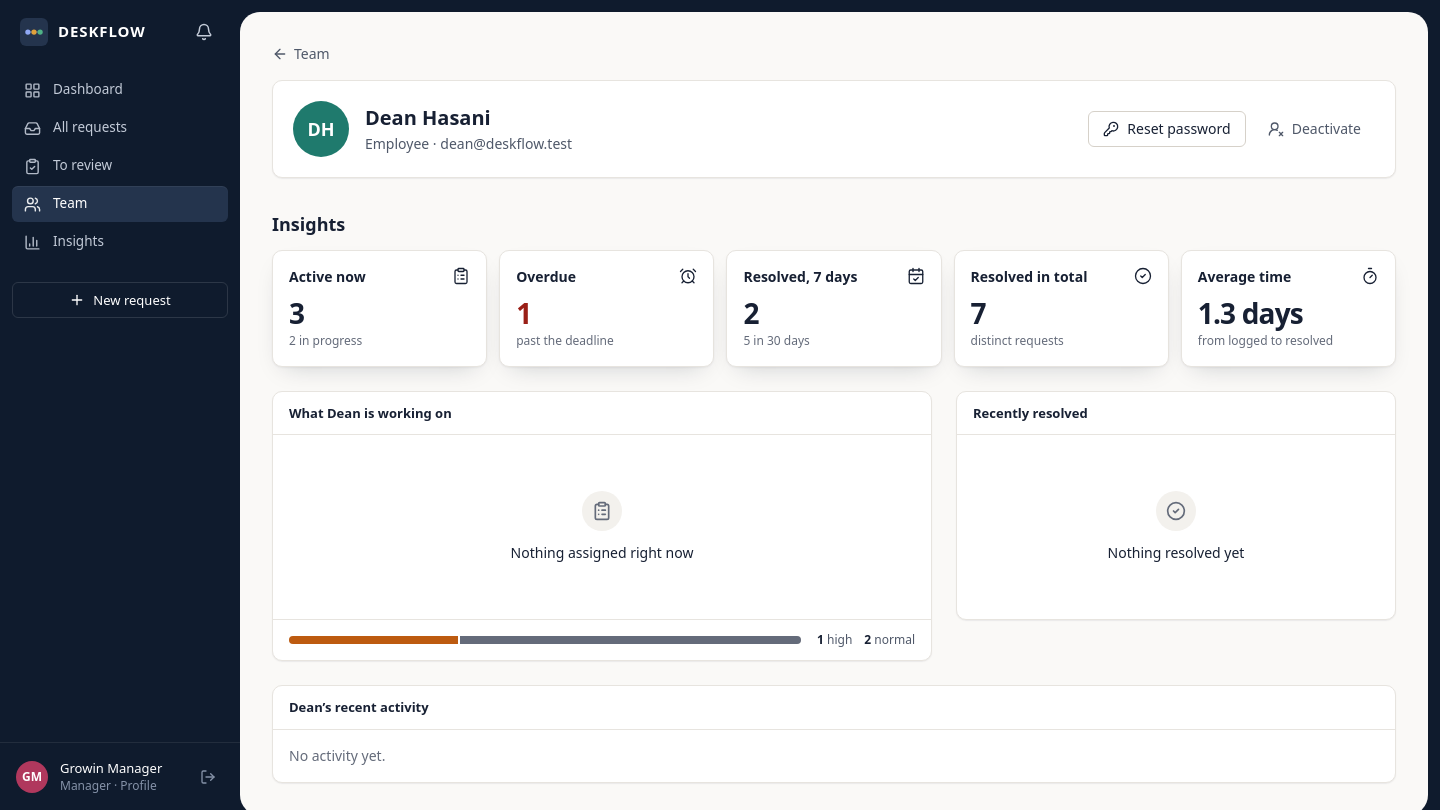
temporary passwords › lets a manager reset a password and shows the temporary one once
Click the button "Reset password".
click(1167, 129)  # box [1088, 111, 1246, 147]
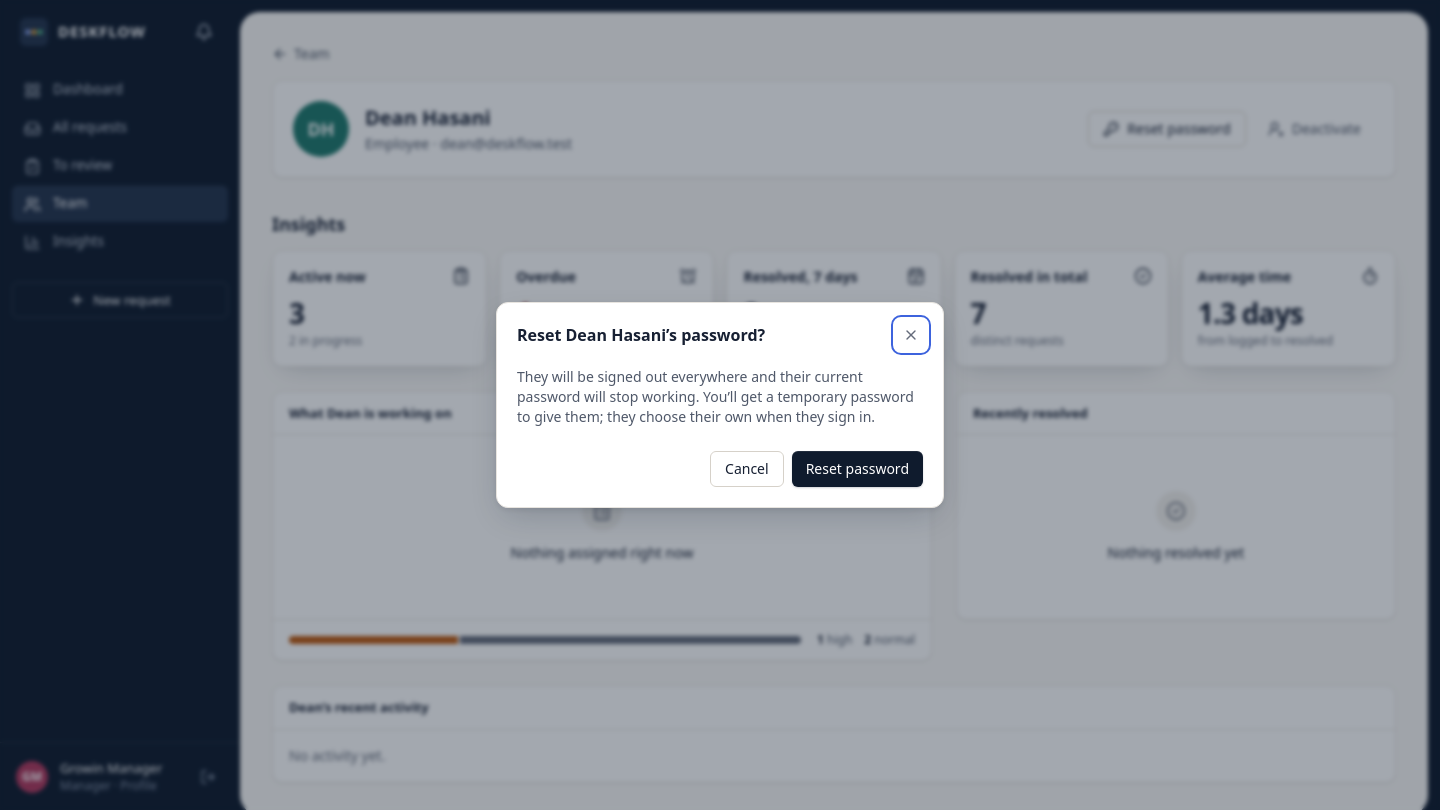
Click the button "Reset password".
click(857, 469)  # box [792, 451, 923, 487]
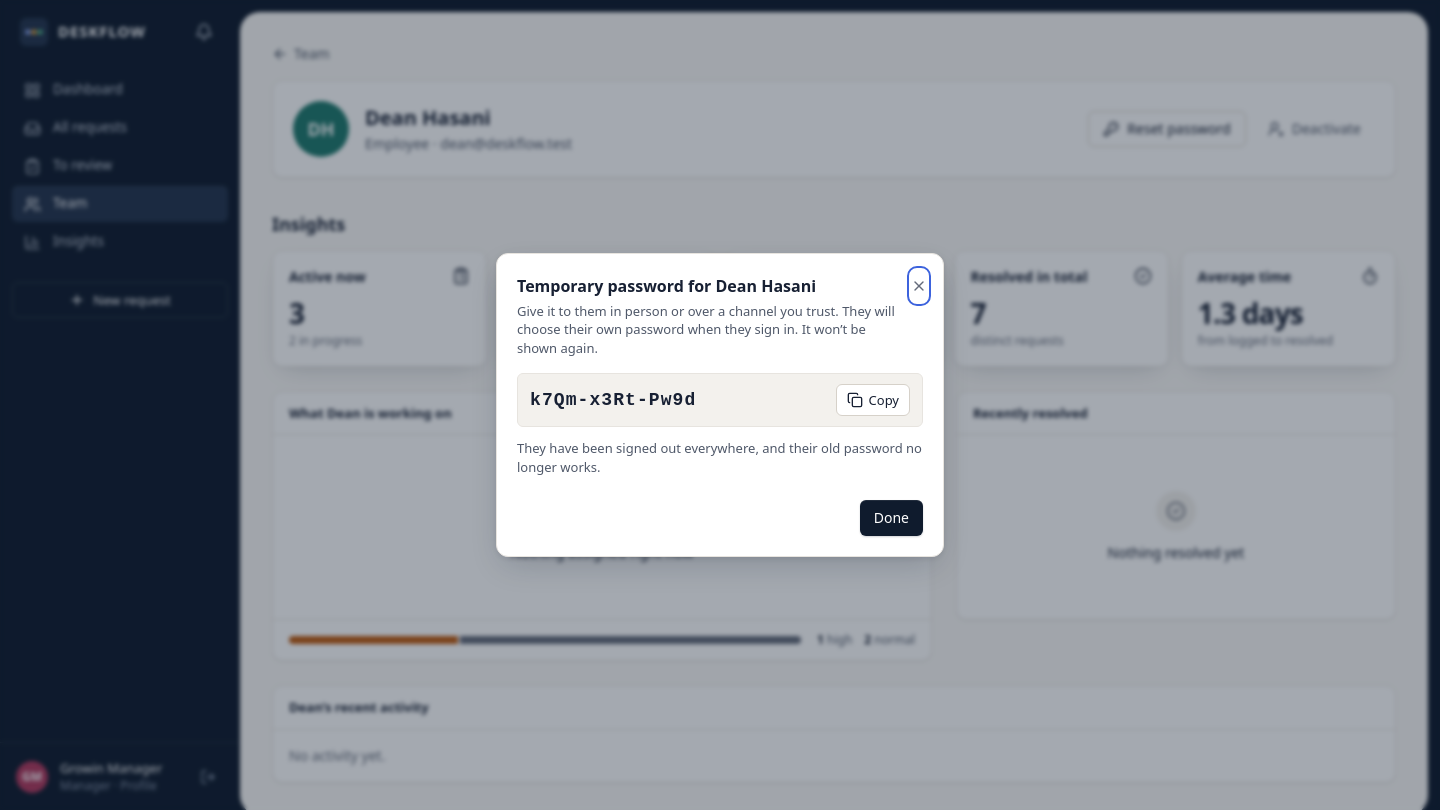
Expected: the text "k7Qm-x3Rt-Pw9d" is shown, [530, 390, 696, 410]
